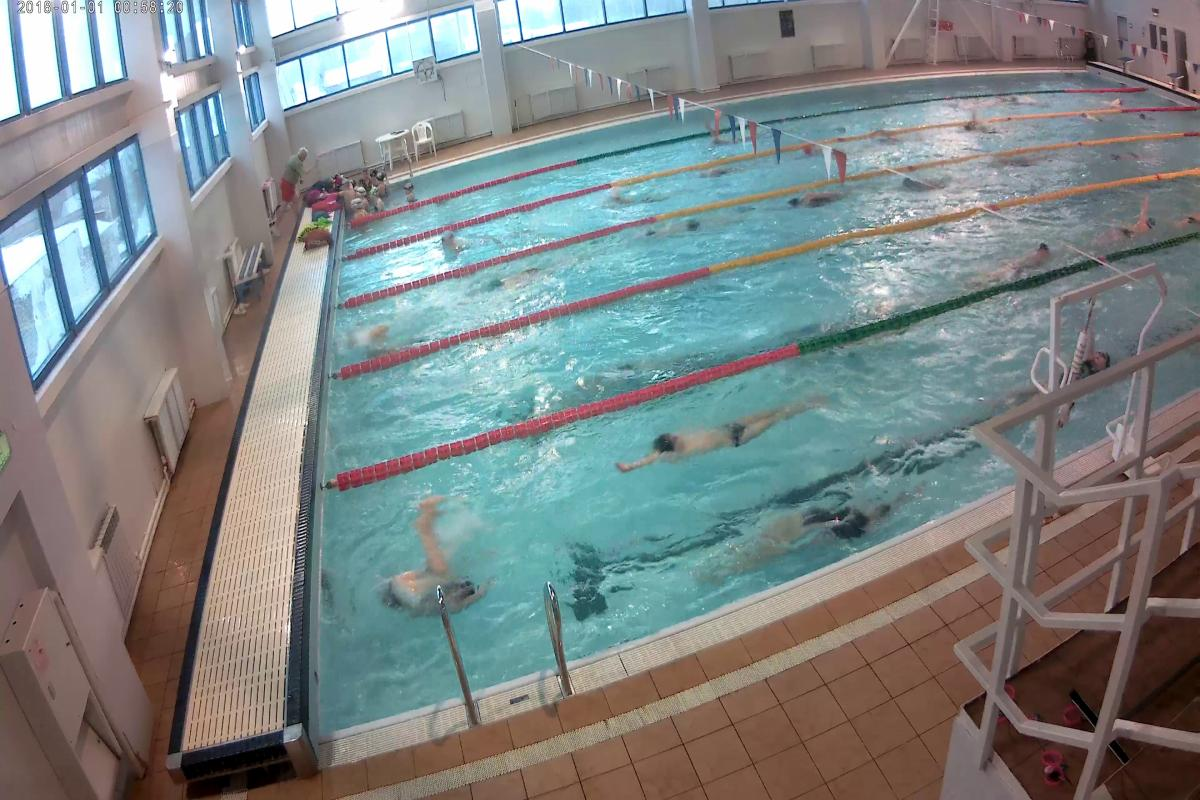swimmer: (728, 501, 859, 576), (630, 408, 814, 460), (384, 556, 484, 619), (648, 208, 762, 242), (971, 250, 1061, 290), (468, 271, 575, 295), (1089, 213, 1168, 245), (905, 168, 983, 196), (799, 183, 899, 203), (360, 316, 416, 344)
